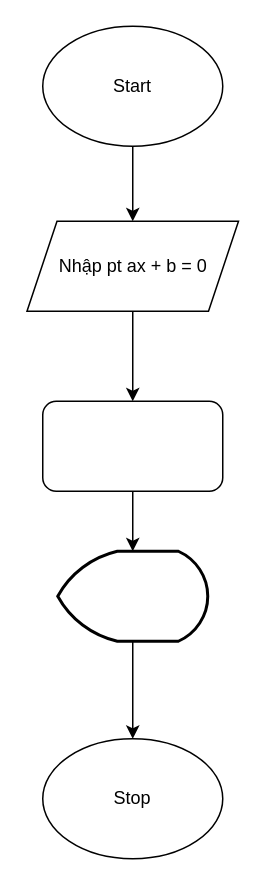
This 264x885 diagram has some shape labels left out. Here are the shapes that lost their labels. From the top down, the centre of each, then its label:
the point at 132,445: x = - b / a
the point at 132,595: In ra x
